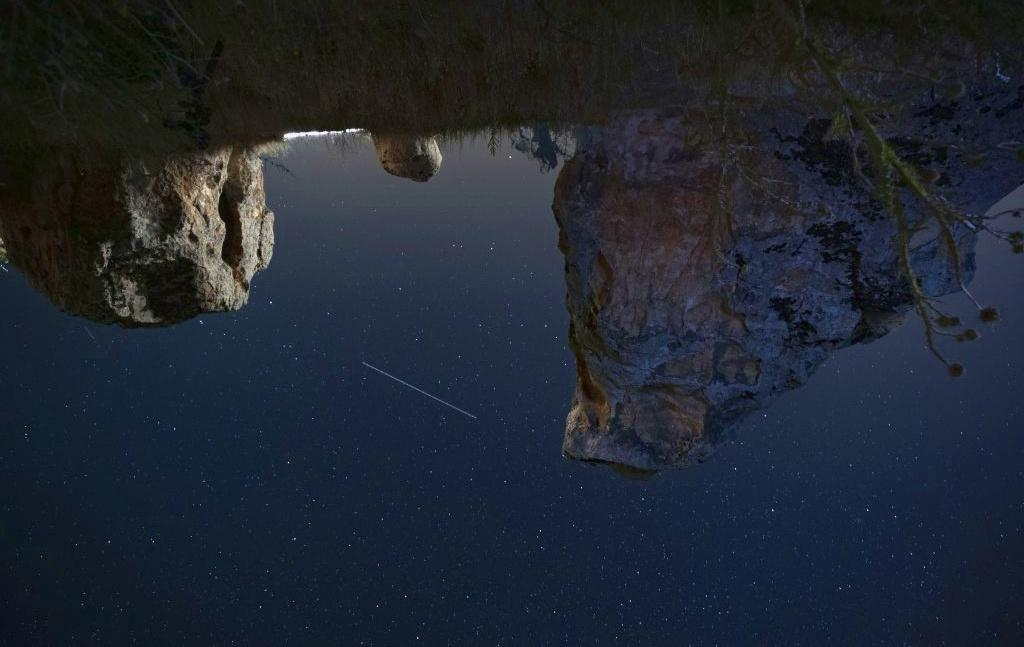meteorite: (342, 349, 486, 426)
